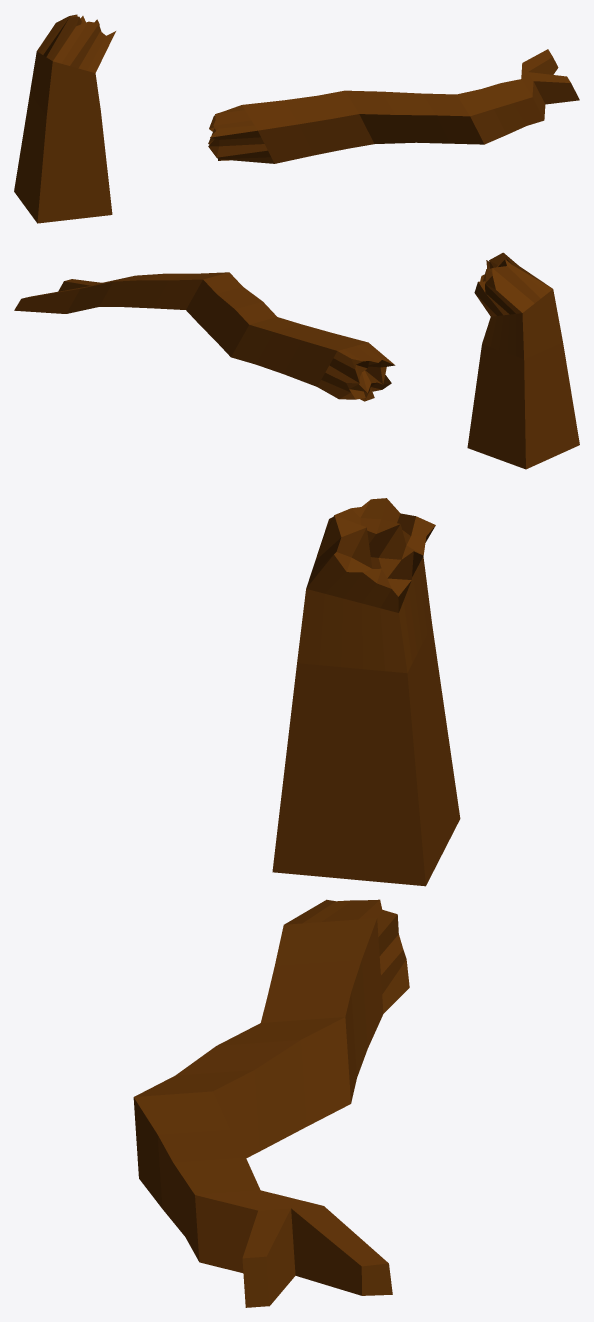
File: tree broken.fbx
3 renders of one model, top to bottom at view 1: azimuth 30°, elevation 25°; view 2: azimuth 150°, elevation 25°; view 3: azimuth 270°, elevation 25°, orthographic. The views are drawn at different scales.
Parts seen in each view (by area): view 1: Treebroken; view 2: Treebroken; view 3: Treebroken.
Boxes of the visible parts, box(x1,y1,x2,y2) form: Treebroken: box(14, 14, 579, 223); Treebroken: box(14, 252, 579, 469); Treebroken: box(133, 498, 460, 1307).
Size of the model in its own units: 270 by 87.61 by 71.13.
